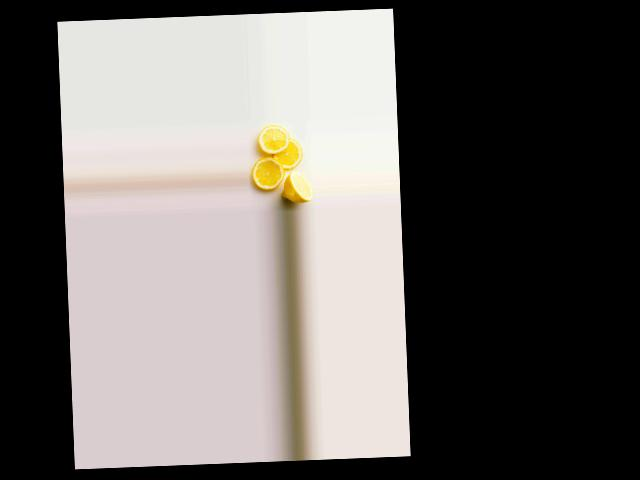lemon: (284, 170, 313, 205)
